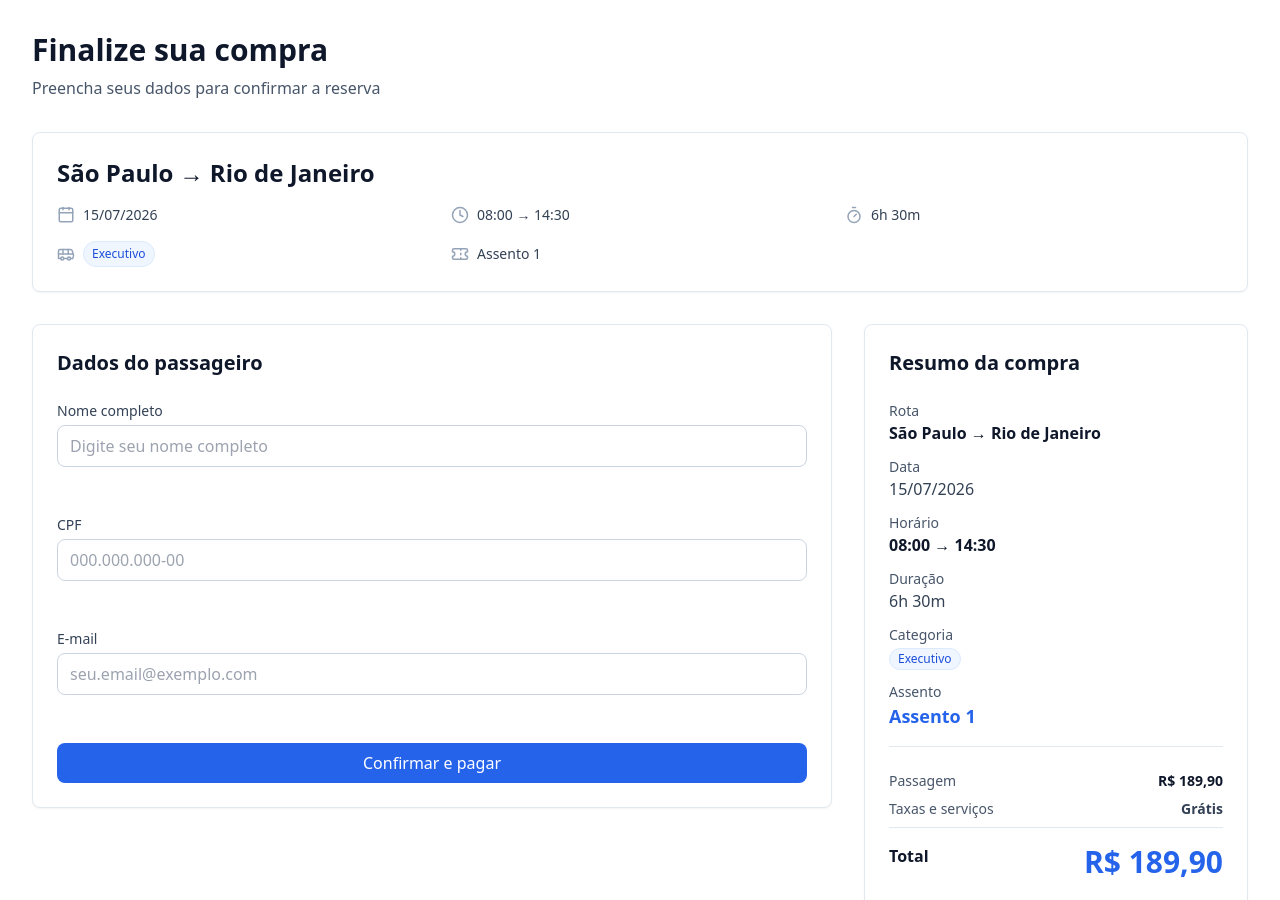
Test case: CheckoutPage › validates required name field
This screenshot has width=1280, height=900.
Click the button "Confirmar e pagar": (432, 763) [57,743,807,783]
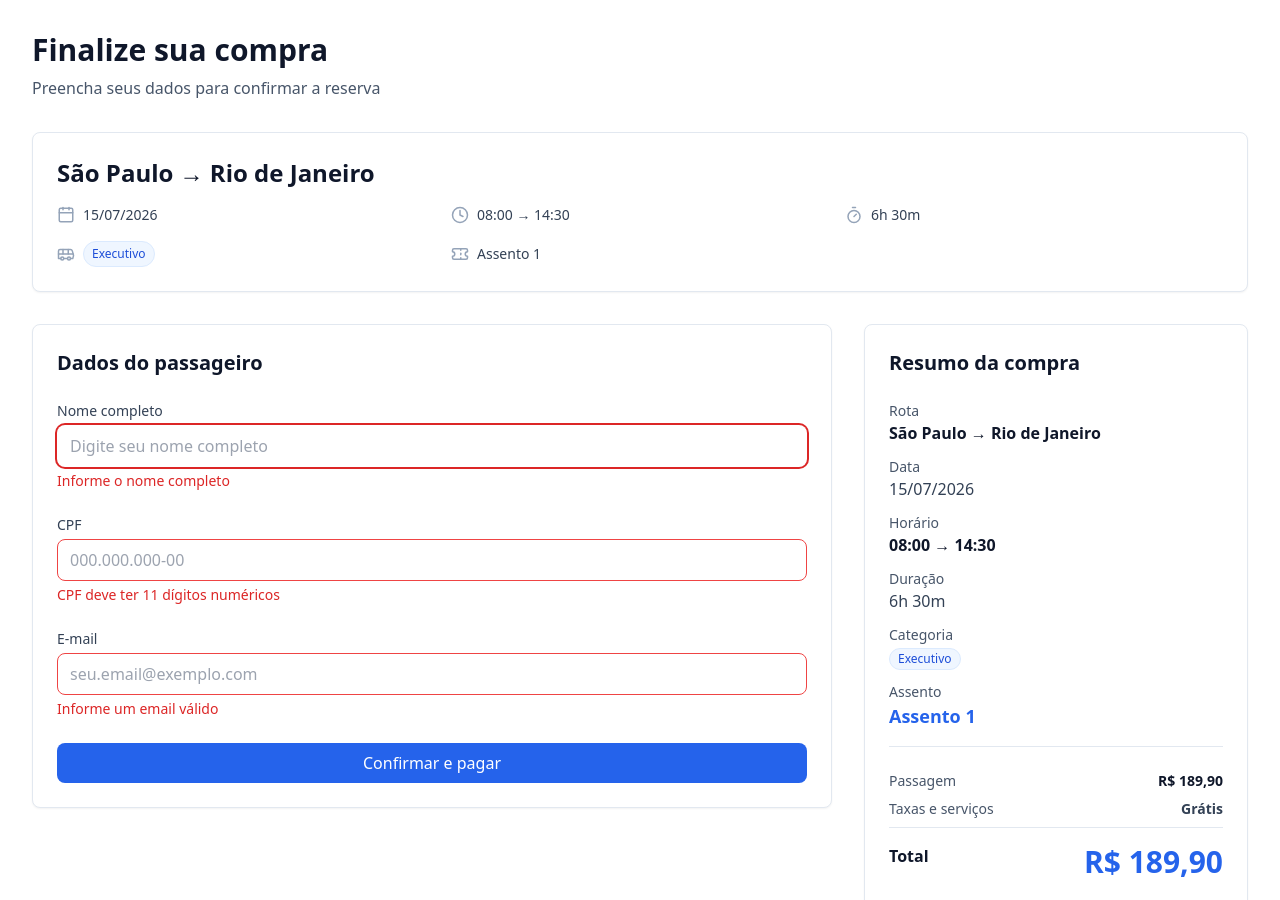
Expected: the text "Informe o nome completo" is shown, [57,471,230,490]
